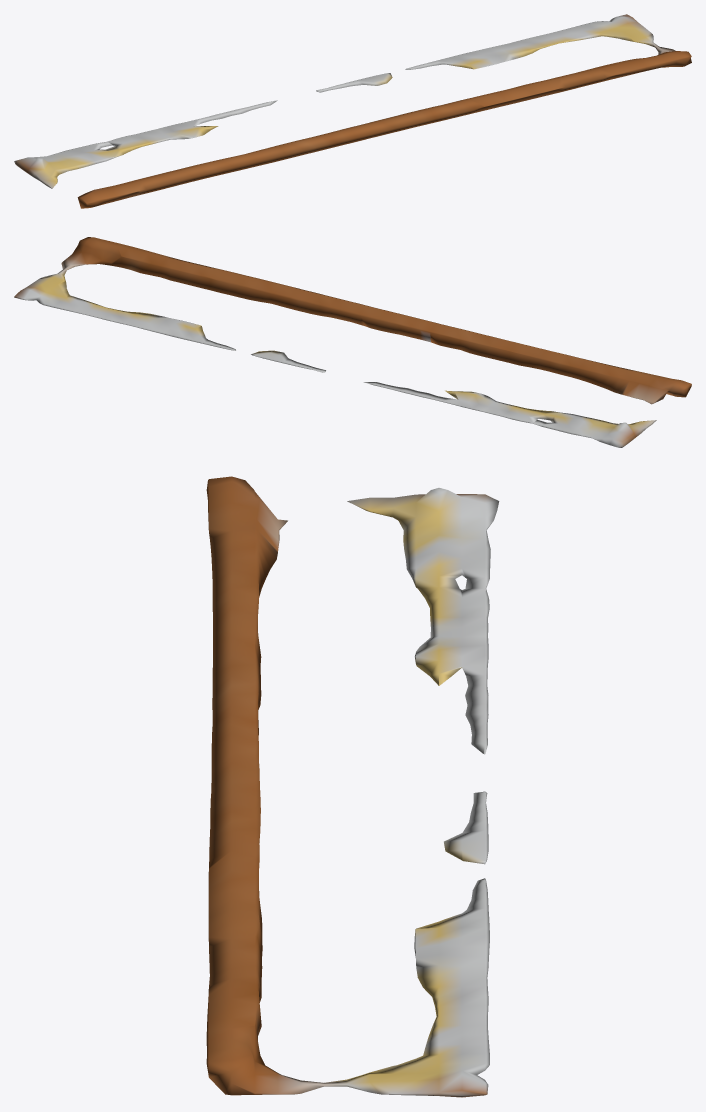
The model's file is a bed with affordances of lay, sit, support.obj.
3 renders of one model, top to bottom at view 1: azimuth 30°, elevation 25°; view 2: azimuth 150°, elevation 25°; view 3: azimuth 270°, elevation 25°, orthographic. The views are drawn at different scales.
Bounding box in the file's own units: 0.9931 × 0.0287 × 0.2058.
